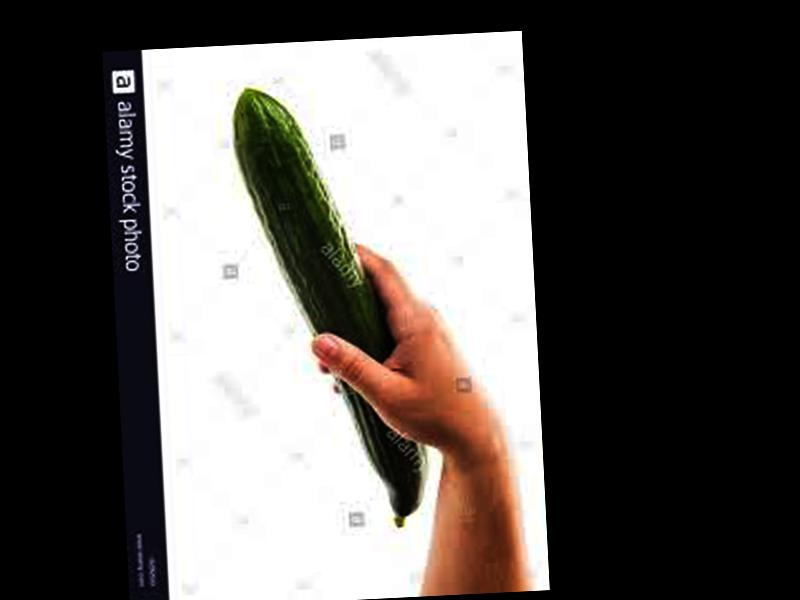Cucumber: (230, 79, 430, 536)
